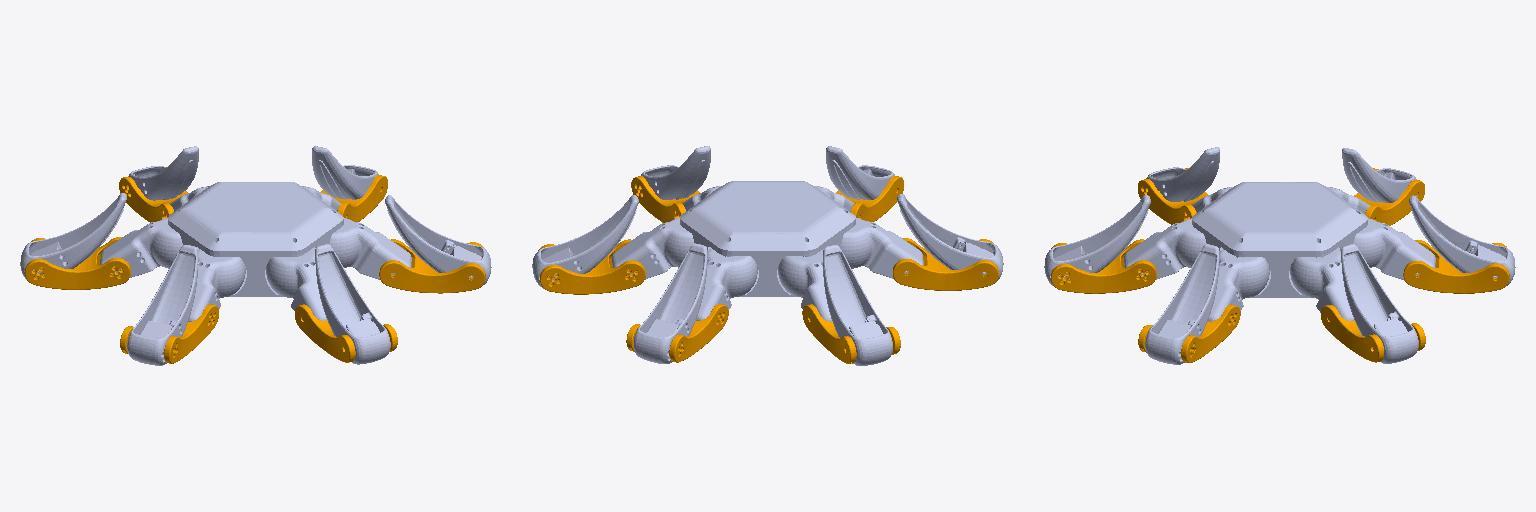
robot.urdf — Spider_Assembly:
<?xml version="1.0" encoding="utf-8"?>
<!-- This URDF was automatically created by SolidWorks to URDF Exporter! Originally created by [author] ([email redacted]) 
     Commit Version: 1.6.0-4-g7f85cfe  Build Version: 1.6.7995.38578
     For more information, please see http://wiki.ros.org/sw_urdf_exporter -->
<robot
  name="Spider_Assembly">
  <link
    name="base">
    <inertial>
      <origin
        xyz="-1.2244E-08 1.2927E-08 -0.021795"
        rpy="0 0 0" />
      <mass
        value="1.5" />
      <inertia
        ixx="0.002302"
        ixy="-4.563E-10"
        ixz="-1.0633E-10"
        iyy="0.002302"
        iyz="3.0883E-10"
        izz="0.0042233" />
    </inertial>
    <visual>
      <origin
        xyz="0 0 0"
        rpy="0 0 0" />
      <geometry>
        <mesh
          filename="package://Spider_Assembly/meshes/base.STL" />
      </geometry>
      <material
        name="">
        <color
          rgba="0.79216 0.81961 0.93333 1" />
      </material>
    </visual>
    <collision>
      <origin
        xyz="0 0 0"
        rpy="0 0 0" />
      <geometry>
        <mesh
          filename="package://Spider_Assembly/meshes/base.STL" />
      </geometry>
    </collision>
  </link>
  <link
    name="coxa1">
    <inertial>
      <origin
        xyz="-0.00022139 -0.033151 0.035215"
        rpy="0 0 0" />
      <mass
        value="0.18" />
      <inertia
        ixx="9.5514E-05"
        ixy="-6.019E-07"
        ixz="1.386E-06"
        iyy="9.9667E-05"
        iyz="2.1577E-05"
        izz="4.9443E-05" />
    </inertial>
    <visual>
      <origin
        xyz="0 0 0"
        rpy="0 0 0" />
      <geometry>
        <mesh
          filename="package://Spider_Assembly/meshes/coxa1.STL" />
      </geometry>
      <material
        name="">
        <color
          rgba="0.79216 0.81961 0.93333 1" />
      </material>
    </visual>
    <collision>
      <origin
        xyz="0 0 0"
        rpy="0 0 0" />
      <geometry>
        <mesh
          filename="package://Spider_Assembly/meshes/coxa1.STL" />
      </geometry>
    </collision>
  </link>
  <joint
    name="base_to_coxa1"
    type="revolute">
    <origin
      xyz="0 0.1 -0.0229"
      rpy="1.5708 0 3.129" />
    <parent
      link="base" />
    <child
      link="coxa1" />
    <axis
      xyz="0 1 0" />
    <limit
      lower="-60"
      upper="60"
      effort="100"
      velocity="10" />
  </joint>
  <link
    name="femur1">
    <inertial>
      <origin
        xyz="-0.05 -0.003191 -0.0009176"
        rpy="0 0 0" />
      <mass
        value="0.06" />
      <inertia
        ixx="4.8285E-05"
        ixy="-1.8635E-11"
        ixz="-1.9862E-09"
        iyy="0.00012448"
        iyz="2.4871E-07"
        izz="8.6552E-05" />
    </inertial>
    <visual>
      <origin
        xyz="0 0 0"
        rpy="0 0 0" />
      <geometry>
        <mesh
          filename="package://Spider_Assembly/meshes/femur1.STL" />
      </geometry>
      <material
        name="">
        <color
          rgba="1 0.67059 0 1" />
      </material>
    </visual>
    <collision>
      <origin
        xyz="0 0 0"
        rpy="0 0 0" />
      <geometry>
        <mesh
          filename="package://Spider_Assembly/meshes/femur1.STL" />
      </geometry>
    </collision>
  </link>
  <joint
    name="coxa1_to_femur1"
    type="revolute">
    <origin
      xyz="0 -0.055226 0.076324"
      rpy="1.5708 1.5364 1.5708" />
    <parent
      link="coxa1" />
    <child
      link="femur1" />
    <axis
      xyz="0 0 1" />
    <limit
      lower="-90"
      upper="120"
      effort="100"
      velocity="10" />
  </joint>
  <link
    name="tibia1">
    <inertial>
      <origin
        xyz="0.00042461 -0.025874 0.026923"
        rpy="0 0 0" />
      <mass
        value="0.11" />
      <inertia
        ixx="0.00014528"
        ixy="-2.5855E-06"
        ixz="1.211E-06"
        iyy="6.4147E-05"
        iyz="5.5951E-05"
        izz="0.00011569" />
    </inertial>
    <visual>
      <origin
        xyz="0 0 0"
        rpy="0 0 0" />
      <geometry>
        <mesh
          filename="package://Spider_Assembly/meshes/tibia1.STL" />
      </geometry>
      <material
        name="">
        <color
          rgba="0.79216 0.81961 0.93333 1" />
      </material>
    </visual>
    <collision>
      <origin
        xyz="0 0 0"
        rpy="0 0 0" />
      <geometry>
        <mesh
          filename="package://Spider_Assembly/meshes/tibia1.STL" />
      </geometry>
    </collision>
  </link>
  <joint
    name="femur1_to_tibia1"
    type="revolute">
    <origin
      xyz="-0.1 0 0"
      rpy="2.7369 -1.5708 0" />
    <parent
      link="femur1" />
    <child
      link="tibia1" />
    <axis
      xyz="1 0 0" />
    <limit
      lower="-120"
      upper="60"
      effort="100"
      velocity="10" />
  </joint>
  <link
    name="coxa2">
    <inertial>
      <origin
        xyz="-0.00022142 -0.033151 0.035215"
        rpy="0 0 0" />
      <mass
        value="0.18" />
      <inertia
        ixx="9.5515E-05"
        ixy="-6.02E-07"
        ixz="1.3865E-06"
        iyy="9.9669E-05"
        iyz="2.1577E-05"
        izz="4.9443E-05" />
    </inertial>
    <visual>
      <origin
        xyz="0 0 0"
        rpy="0 0 0" />
      <geometry>
        <mesh
          filename="package://Spider_Assembly/meshes/coxa2.STL" />
      </geometry>
      <material
        name="">
        <color
          rgba="0.79216 0.81961 0.93333 1" />
      </material>
    </visual>
    <collision>
      <origin
        xyz="0 0 0"
        rpy="0 0 0" />
      <geometry>
        <mesh
          filename="package://Spider_Assembly/meshes/coxa2.STL" />
      </geometry>
    </collision>
  </link>
  <joint
    name="base_to_coxa2"
    type="revolute">
    <origin
      xyz="-0.086603 0.050001 -0.0229"
      rpy="1.5708 0 -2.1406" />
    <parent
      link="base" />
    <child
      link="coxa2" />
    <axis
      xyz="0 1 0" />
    <limit
      lower="-60"
      upper="60"
      effort="100"
      velocity="10" />
  </joint>
  <link
    name="femur2">
    <inertial>
      <origin
        xyz="-0.05 -0.0031911 -0.0009176"
        rpy="0 0 0" />
      <mass
        value="0.06" />
      <inertia
        ixx="4.8285E-05"
        ixy="-1.6861E-11"
        ixz="-1.7643E-09"
        iyy="0.00012448"
        iyz="2.4871E-07"
        izz="8.6552E-05" />
    </inertial>
    <visual>
      <origin
        xyz="0 0 0"
        rpy="0 0 0" />
      <geometry>
        <mesh
          filename="package://Spider_Assembly/meshes/femur2.STL" />
      </geometry>
      <material
        name="">
        <color
          rgba="1 0.67059 0 1" />
      </material>
    </visual>
    <collision>
      <origin
        xyz="0 0 0"
        rpy="0 0 0" />
      <geometry>
        <mesh
          filename="package://Spider_Assembly/meshes/femur2.STL" />
      </geometry>
    </collision>
  </link>
  <joint
    name="coxa2_to_femur2"
    type="revolute">
    <origin
      xyz="0 -0.055226 0.076324"
      rpy="1.5708 1.5364 1.5708" />
    <parent
      link="coxa2" />
    <child
      link="femur2" />
    <axis
      xyz="0 0 1" />
    <limit
      lower="-90"
      upper="120"
      effort="100"
      velocity="10" />
  </joint>
  <link
    name="tibia2">
    <inertial>
      <origin
        xyz="0.00042461 -0.025875 0.026923"
        rpy="0 0 0" />
      <mass
        value="0.11" />
      <inertia
        ixx="0.00014528"
        ixy="-2.5865E-06"
        ixz="1.2112E-06"
        iyy="6.4147E-05"
        iyz="5.5952E-05"
        izz="0.00011569" />
    </inertial>
    <visual>
      <origin
        xyz="0 0 0"
        rpy="0 0 0" />
      <geometry>
        <mesh
          filename="package://Spider_Assembly/meshes/tibia2.STL" />
      </geometry>
      <material
        name="">
        <color
          rgba="0.79216 0.81961 0.93333 1" />
      </material>
    </visual>
    <collision>
      <origin
        xyz="0 0 0"
        rpy="0 0 0" />
      <geometry>
        <mesh
          filename="package://Spider_Assembly/meshes/tibia2.STL" />
      </geometry>
    </collision>
  </link>
  <joint
    name="femur2_to_tibia2"
    type="revolute">
    <origin
      xyz="-0.1 0 0"
      rpy="2.7369 -1.5708 0" />
    <parent
      link="femur2" />
    <child
      link="tibia2" />
    <axis
      xyz="1 0 0" />
    <limit
      lower="-120"
      upper="60"
      effort="100"
      velocity="10" />
  </joint>
  <link
    name="coxa3">
    <inertial>
      <origin
        xyz="-0.00022142 -0.033151 0.035215"
        rpy="0 0 0" />
      <mass
        value="0.18" />
      <inertia
        ixx="9.5521E-05"
        ixy="-6.0189E-07"
        ixz="1.3863E-06"
        iyy="9.9672E-05"
        iyz="2.158E-05"
        izz="4.9446E-05" />
    </inertial>
    <visual>
      <origin
        xyz="0 0 0"
        rpy="0 0 0" />
      <geometry>
        <mesh
          filename="package://Spider_Assembly/meshes/coxa3.STL" />
      </geometry>
      <material
        name="">
        <color
          rgba="0.79216 0.81961 0.93333 1" />
      </material>
    </visual>
    <collision>
      <origin
        xyz="0 0 0"
        rpy="0 0 0" />
      <geometry>
        <mesh
          filename="package://Spider_Assembly/meshes/coxa3.STL" />
      </geometry>
    </collision>
  </link>
  <joint
    name="base_to_coxa3"
    type="revolute">
    <origin
      xyz="-0.086604 -0.049999 -0.0229"
      rpy="1.5708 0 -1.0118" />
    <parent
      link="base" />
    <child
      link="coxa3" />
    <axis
      xyz="0 1 0" />
    <limit
      lower="-60"
      upper="60"
      effort="100"
      velocity="0" />
  </joint>
  <link
    name="femur3">
    <inertial>
      <origin
        xyz="-0.05 -0.0031893 -0.00091762"
        rpy="0 0 0" />
      <mass
        value="0.06" />
      <inertia
        ixx="4.8285E-05"
        ixy="1.3821E-10"
        ixz="-1.8768E-09"
        iyy="0.00012448"
        iyz="2.488E-07"
        izz="8.6552E-05" />
    </inertial>
    <visual>
      <origin
        xyz="0 0 0"
        rpy="0 0 0" />
      <geometry>
        <mesh
          filename="package://Spider_Assembly/meshes/femur3.STL" />
      </geometry>
      <material
        name="">
        <color
          rgba="1 0.67059 0 1" />
      </material>
    </visual>
    <collision>
      <origin
        xyz="0 0 0"
        rpy="0 0 0" />
      <geometry>
        <mesh
          filename="package://Spider_Assembly/meshes/femur3.STL" />
      </geometry>
    </collision>
  </link>
  <joint
    name="coxa3_to_femur3"
    type="revolute">
    <origin
      xyz="0 -0.055226 0.076324"
      rpy="1.5708 1.5364 1.5708" />
    <parent
      link="coxa3" />
    <child
      link="femur3" />
    <axis
      xyz="0 0 1" />
    <limit
      lower="-90"
      upper="120"
      effort="100"
      velocity="10" />
  </joint>
  <link
    name="tibia3">
    <inertial>
      <origin
        xyz="0.0004246 -0.025875 0.026923"
        rpy="0 0 0" />
      <mass
        value="0.11" />
      <inertia
        ixx="0.00014528"
        ixy="-2.5855E-06"
        ixz="1.2111E-06"
        iyy="6.4147E-05"
        iyz="5.5951E-05"
        izz="0.00011569" />
    </inertial>
    <visual>
      <origin
        xyz="0 0 0"
        rpy="0 0 0" />
      <geometry>
        <mesh
          filename="package://Spider_Assembly/meshes/tibia3.STL" />
      </geometry>
      <material
        name="">
        <color
          rgba="0.79216 0.81961 0.93333 1" />
      </material>
    </visual>
    <collision>
      <origin
        xyz="0 0 0"
        rpy="0 0 0" />
      <geometry>
        <mesh
          filename="package://Spider_Assembly/meshes/tibia3.STL" />
      </geometry>
    </collision>
  </link>
  <joint
    name="femur3_to_tibia3"
    type="revolute">
    <origin
      xyz="-0.1 0 0"
      rpy="2.7369 -1.5708 0" />
    <parent
      link="femur3" />
    <child
      link="tibia3" />
    <axis
      xyz="1 0 0" />
    <limit
      lower="-120"
      upper="60"
      effort="100"
      velocity="10" />
  </joint>
  <link
    name="coxa4">
    <inertial>
      <origin
        xyz="-0.00022339 -0.033151 0.035215"
        rpy="0 0 0" />
      <mass
        value="0.18" />
      <inertia
        ixx="9.5519E-05"
        ixy="-6.019E-07"
        ixz="1.3861E-06"
        iyy="9.967E-05"
        iyz="2.1579E-05"
        izz="4.9446E-05" />
    </inertial>
    <visual>
      <origin
        xyz="0 0 0"
        rpy="0 0 0" />
      <geometry>
        <mesh
          filename="package://Spider_Assembly/meshes/coxa4.STL" />
      </geometry>
      <material
        name="">
        <color
          rgba="0.79216 0.81961 0.93333 1" />
      </material>
    </visual>
    <collision>
      <origin
        xyz="0 0 0"
        rpy="0 0 0" />
      <geometry>
        <mesh
          filename="package://Spider_Assembly/meshes/coxa4.STL" />
      </geometry>
    </collision>
  </link>
  <joint
    name="base_to_coxa4"
    type="revolute">
    <origin
      xyz="0 -0.1 -0.0229"
      rpy="1.5708 0 0.031505" />
    <parent
      link="base" />
    <child
      link="coxa4" />
    <axis
      xyz="0 1 0" />
    <limit
      lower="-60"
      upper="60"
      effort="100"
      velocity="10" />
  </joint>
  <link
    name="femur4">
    <inertial>
      <origin
        xyz="-0.05 -0.003191 -0.0009196"
        rpy="0 0 0" />
      <mass
        value="0.06" />
      <inertia
        ixx="4.8285E-05"
        ixy="-1.8187E-11"
        ixz="-1.9861E-09"
        iyy="0.00012448"
        iyz="2.4871E-07"
        izz="8.6552E-05" />
    </inertial>
    <visual>
      <origin
        xyz="0 0 0"
        rpy="0 0 0" />
      <geometry>
        <mesh
          filename="package://Spider_Assembly/meshes/femur4.STL" />
      </geometry>
      <material
        name="">
        <color
          rgba="1 0.67059 0 1" />
      </material>
    </visual>
    <collision>
      <origin
        xyz="0 0 0"
        rpy="0 0 0" />
      <geometry>
        <mesh
          filename="package://Spider_Assembly/meshes/femur4.STL" />
      </geometry>
    </collision>
  </link>
  <joint
    name="coxa4_to_femur4"
    type="revolute">
    <origin
      xyz="0 -0.055226 0.076324"
      rpy="1.5708 1.5364 1.5708" />
    <parent
      link="coxa4" />
    <child
      link="femur4" />
    <axis
      xyz="0 0 1" />
    <limit
      lower="-90"
      upper="120"
      effort="100"
      velocity="10" />
  </joint>
  <link
    name="tibia4">
    <inertial>
      <origin
        xyz="0.00042261 -0.025874 0.026923"
        rpy="0 0 0" />
      <mass
        value="0.11" />
      <inertia
        ixx="0.00014528"
        ixy="-2.5855E-06"
        ixz="1.211E-06"
        iyy="6.4147E-05"
        iyz="5.5951E-05"
        izz="0.00011569" />
    </inertial>
    <visual>
      <origin
        xyz="0 0 0"
        rpy="0 0 0" />
      <geometry>
        <mesh
          filename="package://Spider_Assembly/meshes/tibia4.STL" />
      </geometry>
      <material
        name="">
        <color
          rgba="0.79216 0.81961 0.93333 1" />
      </material>
    </visual>
    <collision>
      <origin
        xyz="0 0 0"
        rpy="0 0 0" />
      <geometry>
        <mesh
          filename="package://Spider_Assembly/meshes/tibia4.STL" />
      </geometry>
    </collision>
  </link>
  <joint
    name="femur4_to_tibia4"
    type="revolute">
    <origin
      xyz="-0.1 0 0"
      rpy="2.7369 -1.5708 0" />
    <parent
      link="femur4" />
    <child
      link="tibia4" />
    <axis
      xyz="1 0 0" />
    <limit
      lower="-120"
      upper="60"
      effort="100"
      velocity="10" />
  </joint>
  <link
    name="coxa5">
    <inertial>
      <origin
        xyz="-0.00022142 -0.033151 0.035215"
        rpy="0 0 0" />
      <mass
        value="0.18" />
      <inertia
        ixx="9.5515E-05"
        ixy="-6.02E-07"
        ixz="1.3865E-06"
        iyy="9.9669E-05"
        iyz="2.1577E-05"
        izz="4.9443E-05" />
    </inertial>
    <visual>
      <origin
        xyz="0 0 0"
        rpy="0 0 0" />
      <geometry>
        <mesh
          filename="package://Spider_Assembly/meshes/coxa5.STL" />
      </geometry>
      <material
        name="">
        <color
          rgba="0.79216 0.81961 0.93333 1" />
      </material>
    </visual>
    <collision>
      <origin
        xyz="0 0 0"
        rpy="0 0 0" />
      <geometry>
        <mesh
          filename="package://Spider_Assembly/meshes/coxa5.STL" />
      </geometry>
    </collision>
  </link>
  <joint
    name="base_to_coxa5"
    type="revolute">
    <origin
      xyz="0.086601 -0.050001 -0.0229"
      rpy="1.5708 0 1.0328" />
    <parent
      link="base" />
    <child
      link="coxa5" />
    <axis
      xyz="0 1 0" />
    <limit
      lower="-60"
      upper="60"
      effort="100"
      velocity="10" />
  </joint>
  <link
    name="femur5">
    <inertial>
      <origin
        xyz="-0.05 -0.0031911 -0.0009176"
        rpy="0 0 0" />
      <mass
        value="0.06" />
      <inertia
        ixx="4.8285E-05"
        ixy="-1.6866E-11"
        ixz="-1.7643E-09"
        iyy="0.00012448"
        iyz="2.4871E-07"
        izz="8.6552E-05" />
    </inertial>
    <visual>
      <origin
        xyz="0 0 0"
        rpy="0 0 0" />
      <geometry>
        <mesh
          filename="package://Spider_Assembly/meshes/femur5.STL" />
      </geometry>
      <material
        name="">
        <color
          rgba="1 0.67059 0 1" />
      </material>
    </visual>
    <collision>
      <origin
        xyz="0 0 0"
        rpy="0 0 0" />
      <geometry>
        <mesh
          filename="package://Spider_Assembly/meshes/femur5.STL" />
      </geometry>
    </collision>
  </link>
  <joint
    name="coxa5_to_femur5"
    type="revolute">
    <origin
      xyz="0 -0.055226 0.076324"
      rpy="1.5708 1.5364 1.5708" />
    <parent
      link="coxa5" />
    <child
      link="femur5" />
    <axis
      xyz="0 0 1" />
    <limit
      lower="-90"
      upper="120"
      effort="100"
      velocity="10" />
  </joint>
  <link
    name="tibia5">
    <inertial>
      <origin
        xyz="0.00042461 -0.025875 0.026923"
        rpy="0 0 0" />
      <mass
        value="0.11" />
      <inertia
        ixx="0.00014528"
        ixy="-2.5865E-06"
        ixz="1.2112E-06"
        iyy="6.4147E-05"
        iyz="5.5952E-05"
        izz="0.00011569" />
    </inertial>
    <visual>
      <origin
        xyz="0 0 0"
        rpy="0 0 0" />
      <geometry>
        <mesh
          filename="package://Spider_Assembly/meshes/tibia5.STL" />
      </geometry>
      <material
        name="">
        <color
          rgba="0.79216 0.81961 0.93333 1" />
      </material>
    </visual>
    <collision>
      <origin
        xyz="0 0 0"
        rpy="0 0 0" />
      <geometry>
        <mesh
          filename="package://Spider_Assembly/meshes/tibia5.STL" />
      </geometry>
    </collision>
  </link>
  <joint
    name="femur5_to_tibia5"
    type="revolute">
    <origin
      xyz="-0.1 0 0"
      rpy="2.7369 -1.5708 0" />
    <parent
      link="femur5" />
    <child
      link="tibia5" />
    <axis
      xyz="1 0 0" />
    <limit
      lower="-120"
      upper="60"
      effort="100"
      velocity="10" />
  </joint>
  <link
    name="coxa6">
    <inertial>
      <origin
        xyz="-0.00022142 -0.033151 0.035215"
        rpy="0 0 0" />
      <mass
        value="0.18" />
      <inertia
        ixx="9.5521E-05"
        ixy="-6.0189E-07"
        ixz="1.3863E-06"
        iyy="9.9672E-05"
        iyz="2.158E-05"
        izz="4.9446E-05" />
    </inertial>
    <visual>
      <origin
        xyz="0 0 0"
        rpy="0 0 0" />
      <geometry>
        <mesh
          filename="package://Spider_Assembly/meshes/coxa6.STL" />
      </geometry>
      <material
        name="">
        <color
          rgba="0.79216 0.81961 0.93333 1" />
      </material>
    </visual>
    <collision>
      <origin
        xyz="0 0 0"
        rpy="0 0 0" />
      <geometry>
        <mesh
          filename="package://Spider_Assembly/meshes/coxa6.STL" />
      </geometry>
    </collision>
  </link>
  <joint
    name="base_to_coxa6"
    type="revolute">
    <origin
      xyz="0.086602 0.049999 -0.0229"
      rpy="1.5708 0 2.1604" />
    <parent
      link="base" />
    <child
      link="coxa6" />
    <axis
      xyz="0 1 0" />
    <limit
      lower="-60"
      upper="60"
      effort="100"
      velocity="10" />
  </joint>
  <link
    name="femur6">
    <inertial>
      <origin
        xyz="-0.05 -0.0031893 -0.00091762"
        rpy="0 0 0" />
      <mass
        value="0.06" />
      <inertia
        ixx="4.8285E-05"
        ixy="1.382E-10"
        ixz="-1.8768E-09"
        iyy="0.00012448"
        iyz="2.488E-07"
        izz="8.6552E-05" />
    </inertial>
    <visual>
      <origin
        xyz="0 0 0"
        rpy="0 0 0" />
      <geometry>
        <mesh
          filename="package://Spider_Assembly/meshes/femur6.STL" />
      </geometry>
      <material
        name="">
        <color
          rgba="1 0.67059 0 1" />
      </material>
    </visual>
    <collision>
      <origin
        xyz="0 0 0"
        rpy="0 0 0" />
      <geometry>
        <mesh
          filename="package://Spider_Assembly/meshes/femur6.STL" />
      </geometry>
    </collision>
  </link>
  <joint
    name="coxa6_to_femur6"
    type="revolute">
    <origin
      xyz="0 -0.055226 0.076324"
      rpy="1.5708 1.5364 1.5708" />
    <parent
      link="coxa6" />
    <child
      link="femur6" />
    <axis
      xyz="0 0 1" />
    <limit
      lower="-90"
      upper="120"
      effort="100"
      velocity="10" />
  </joint>
  <link
    name="tibia6">
    <inertial>
      <origin
        xyz="0.0004246 -0.025875 0.026923"
        rpy="0 0 0" />
      <mass
        value="0.11" />
      <inertia
        ixx="0.00014528"
        ixy="-2.5855E-06"
        ixz="1.2111E-06"
        iyy="6.4147E-05"
        iyz="5.5951E-05"
        izz="0.00011569" />
    </inertial>
    <visual>
      <origin
        xyz="0 0 0"
        rpy="0 0 0" />
      <geometry>
        <mesh
          filename="package://Spider_Assembly/meshes/tibia6.STL" />
      </geometry>
      <material
        name="">
        <color
          rgba="0.79216 0.81961 0.93333 1" />
      </material>
    </visual>
    <collision>
      <origin
        xyz="0 0 0"
        rpy="0 0 0" />
      <geometry>
        <mesh
          filename="package://Spider_Assembly/meshes/tibia6.STL" />
      </geometry>
    </collision>
  </link>
  <joint
    name="femur6_to_tibia6"
    type="revolute">
    <origin
      xyz="-0.1 0 0"
      rpy="2.7369 -1.5708 0" />
    <parent
      link="femur6" />
    <child
      link="tibia6" />
    <axis
      xyz="1 0 0" />
    <limit
      lower="-120"
      upper="60"
      effort="100"
      velocity="10" />
  </joint>
</robot>

--- Facts derived from the render (not from the file) ---
Views: 3 orthographic renders of the robot side by side, from view 1: azimuth 30°, elevation 25°; view 2: azimuth 150°, elevation 25°; view 3: azimuth 270°, elevation 25°.
Robot: Spider_Assembly — 19 links, 18 joints (18 revolute); root link base; default pose: all joints at 0.
Links seen in each view (by area): view 1: base, tibia3, tibia4, tibia5, tibia2, femur2, femur5, coxa2, coxa5, coxa4, coxa3, tibia1 (+5 smaller); view 2: base, tibia2, tibia1, tibia6, tibia3, femur3, coxa3, femur6, coxa6, coxa1, tibia5, coxa2 (+5 smaller); view 3: base, tibia5, tibia6, tibia4, tibia1, femur1, femur4, coxa4, coxa1, coxa6, coxa5, tibia2 (+5 smaller).
Link boxes in pixels (box(x1,y1,x2,y2)): base: box(168, 182, 343, 296); tibia3: box(127, 245, 197, 365); tibia4: box(315, 244, 390, 364); tibia5: box(385, 195, 491, 284); tibia2: box(20, 193, 126, 279); femur2: box(25, 237, 130, 289); femur5: box(379, 239, 485, 293); coxa2: box(100, 218, 182, 277); coxa5: box(329, 218, 411, 279); coxa4: box(266, 249, 327, 320); coxa3: box(188, 249, 245, 321); tibia1: box(129, 146, 198, 200); base: box(680, 181, 855, 296); tibia2: box(823, 245, 892, 365); tibia1: box(634, 243, 707, 363); tibia6: box(532, 195, 638, 288); tibia3: box(897, 194, 1003, 280); femur3: box(893, 238, 998, 290); coxa3: box(841, 218, 923, 278); femur6: box(538, 239, 645, 294); coxa6: box(612, 218, 694, 279); coxa1: box(696, 249, 757, 320); tibia5: box(641, 146, 710, 199); coxa2: box(778, 249, 832, 321); base: box(1192, 182, 1367, 297); tibia5: box(1145, 244, 1219, 364); tibia6: box(1341, 244, 1418, 363); tibia4: box(1044, 195, 1150, 285); tibia1: box(1409, 195, 1515, 285); femur1: box(1403, 240, 1509, 293); femur4: box(1051, 239, 1156, 293); coxa4: box(1124, 218, 1206, 279); coxa1: box(1353, 218, 1435, 280); coxa6: box(1290, 249, 1354, 320); coxa5: box(1208, 249, 1269, 321); tibia2: box(1342, 148, 1416, 202).
Bounding box of the posed robot: 0.5415 × 0.6026 × 0.1236 m (x, y, z).
Meshes: 19 distinct files referenced, 19 mesh visuals loaded (19 binary STL).